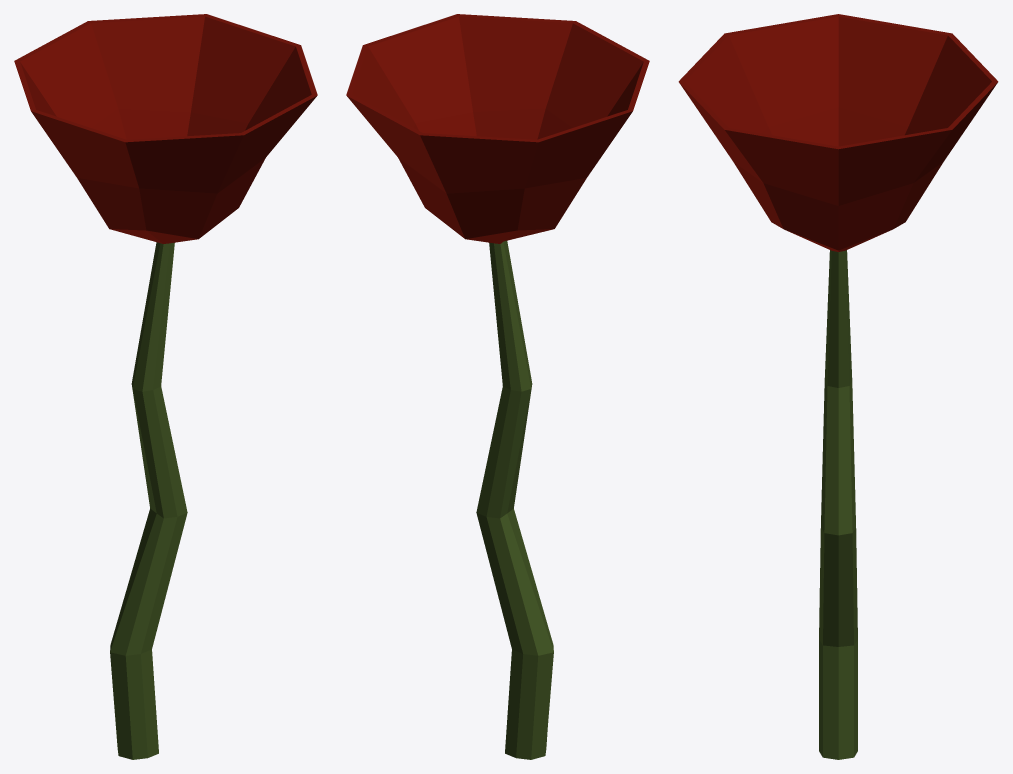
The model's file is Flower4.fbx.
3 views of the same model, side by side, from view 1: azimuth 30°, elevation 25°; view 2: azimuth 150°, elevation 25°; view 3: azimuth 270°, elevation 25° (orthographic). The views are drawn at different scales.
Parts seen in each view (by area): view 1: Flower4; view 2: Flower4; view 3: Flower4.
Boxes of the visible parts, box(x1,y1,x2,y2) form: Flower4: box(14, 14, 317, 759); Flower4: box(346, 14, 649, 759); Flower4: box(678, 14, 998, 759).
Bounding box in the file's own units: 16.65 × 39.22 × 16.65.
